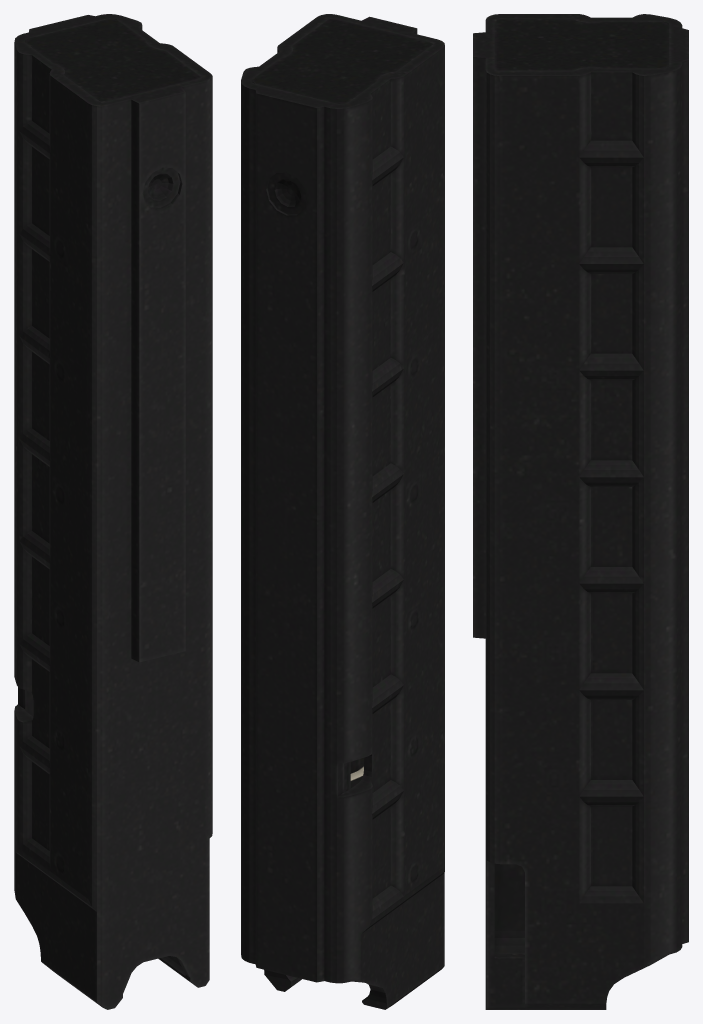
The picture shows the model from 3 angles, left to right: view 1: azimuth 30°, elevation 25°; view 2: azimuth 150°, elevation 25°; view 3: azimuth 270°, elevation 25°; orthographic projection. The views are drawn at different scales.
Visible parts, largest first — view 1: TW_5de8eaadbbaf010b10528a6d_PZ_Import; view 2: TW_5de8eaadbbaf010b10528a6d_PZ_Import; view 3: TW_5de8eaadbbaf010b10528a6d_PZ_Import.
Boxes of the visible parts, box(x1,y1,x2,y2) form: TW_5de8eaadbbaf010b10528a6d_PZ_Import: box(14, 14, 212, 1009); TW_5de8eaadbbaf010b10528a6d_PZ_Import: box(241, 14, 444, 1009); TW_5de8eaadbbaf010b10528a6d_PZ_Import: box(473, 14, 688, 1009).
Size of the model in its own units: 0.0145 by 0.0212 by 0.102.
1 material, 1 textured.
